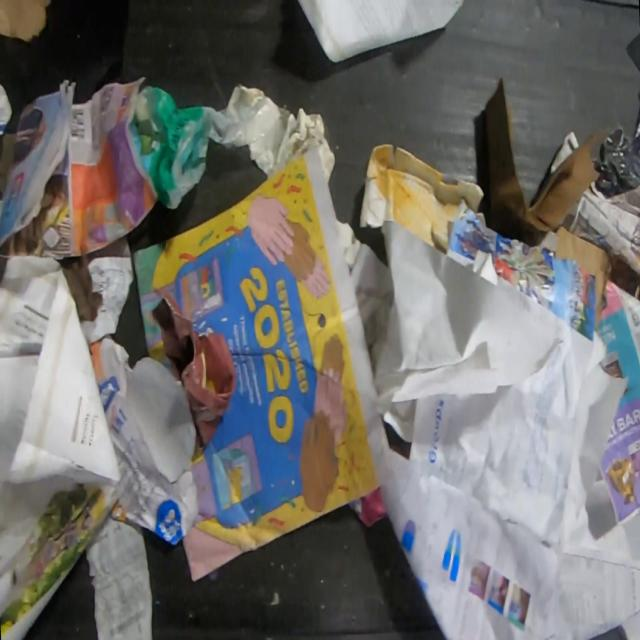cardboard: (486, 75, 612, 246), (554, 225, 612, 328), (0, 0, 53, 44)
rigid_plastic: (359, 144, 486, 255)
soft_plastic: (128, 83, 336, 211)
